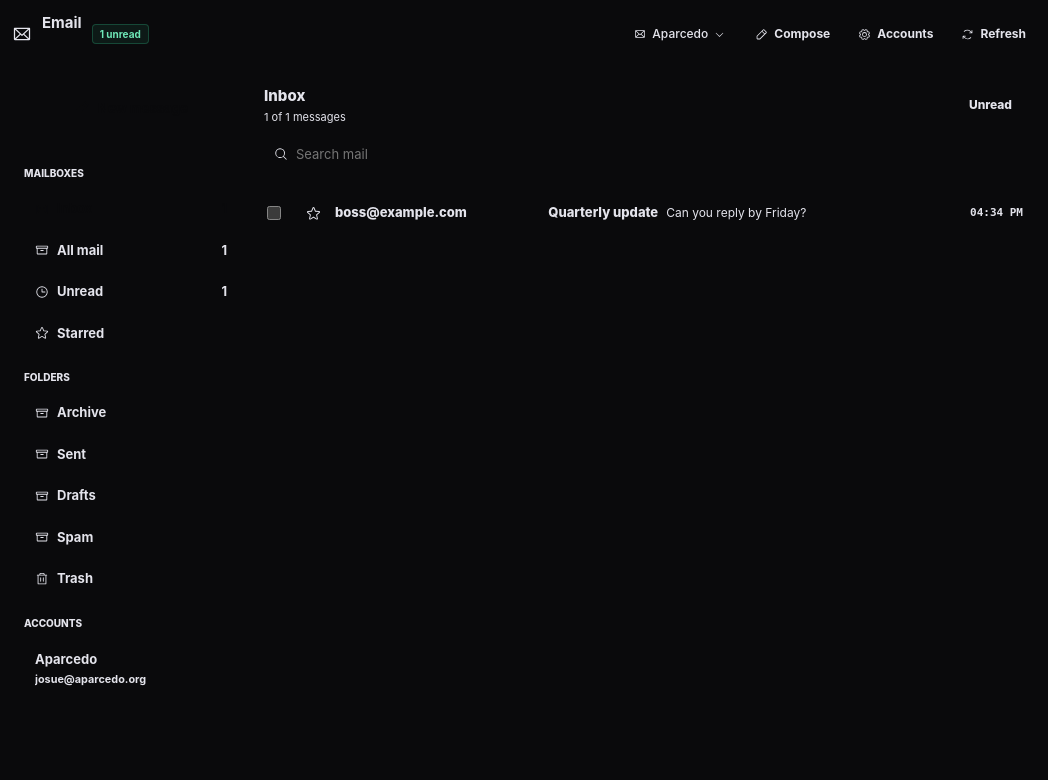
EmailPage multi-account threads › can close an opened thread back to the message list only view
Click the text "Quarterly update" at (603, 213), box [548,203,658,223]
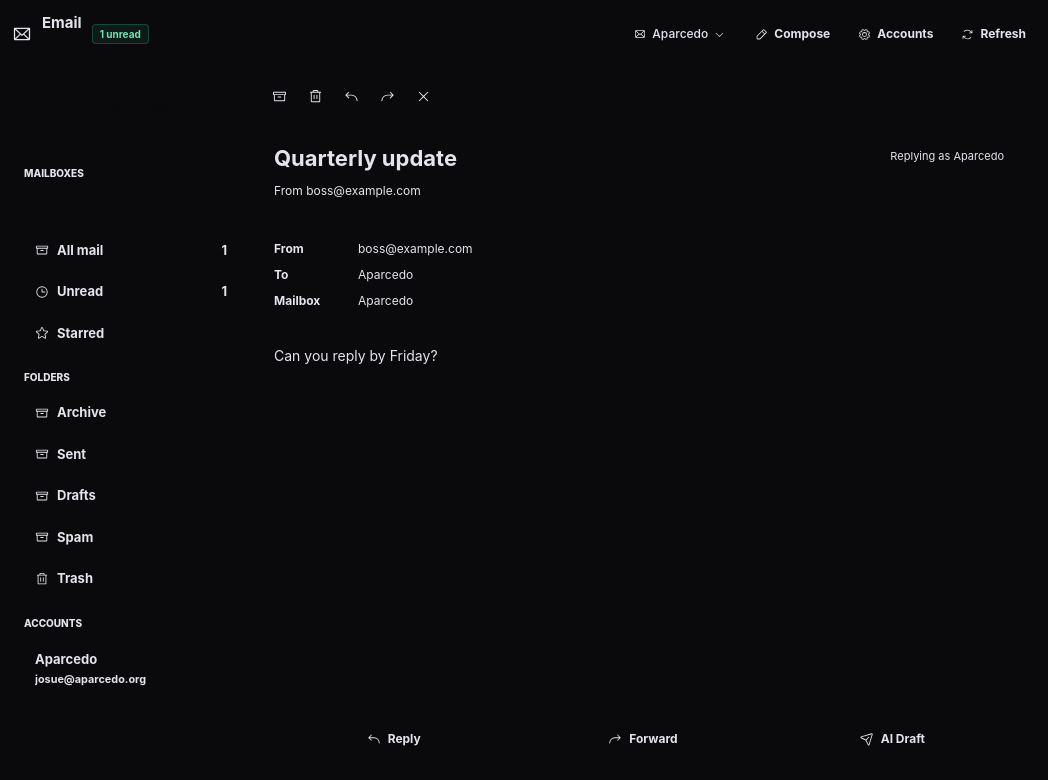
expect the text "Replying as Aparcedo" is shown: met, box [882,144,1012,167]
Click the button named "Close email" at (423, 96), box [408,82,438,112]
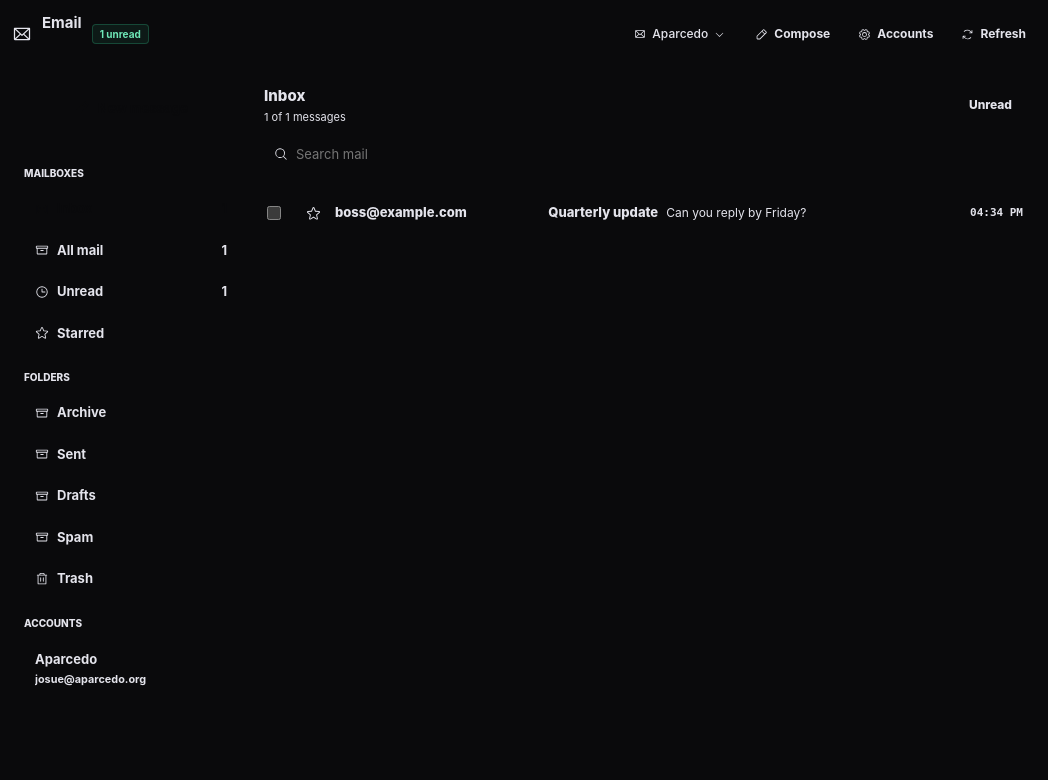
expect the element with test id "mail-detail-column" is gone: met
expect the text "Replying as Aparcedo" is gone: met
